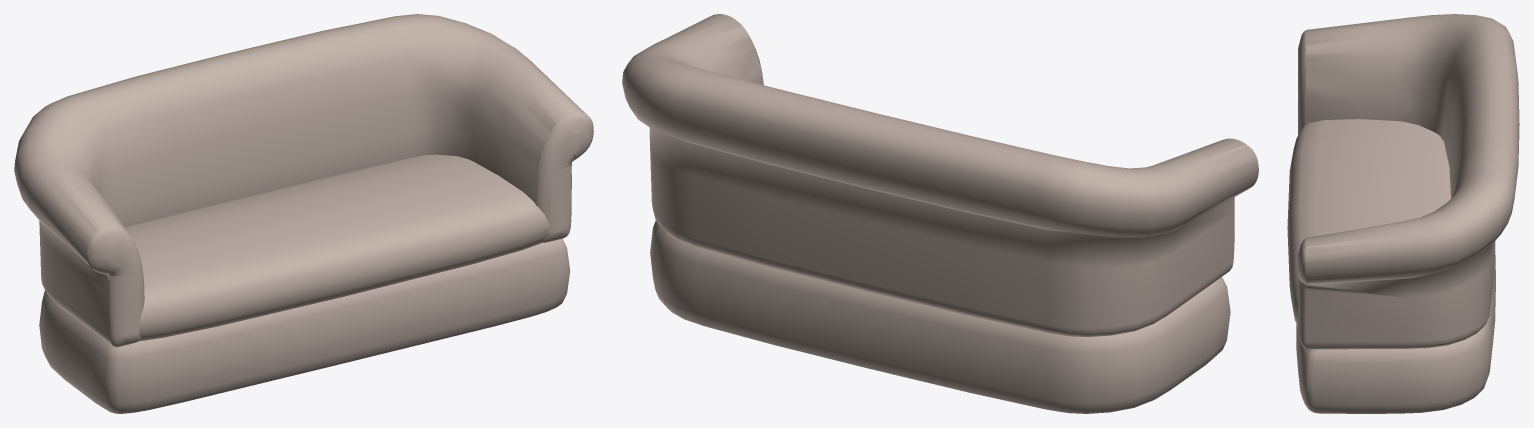
Rendered from dsb.FBX.
3 views of the same model, side by side, from view 1: azimuth 30°, elevation 25°; view 2: azimuth 150°, elevation 25°; view 3: azimuth 270°, elevation 25° (orthographic). The views are drawn at different scales.
Visible parts, largest first — view 1: troseddejo; view 2: troseddejo; view 3: troseddejo.
Boxes of the visible parts, bbox=[...] form: troseddejo: bbox=[14, 14, 593, 413]; troseddejo: bbox=[622, 14, 1258, 413]; troseddejo: bbox=[1287, 14, 1519, 413].
Bounding box in the file's own units: 188 × 82.7 × 81.27.
